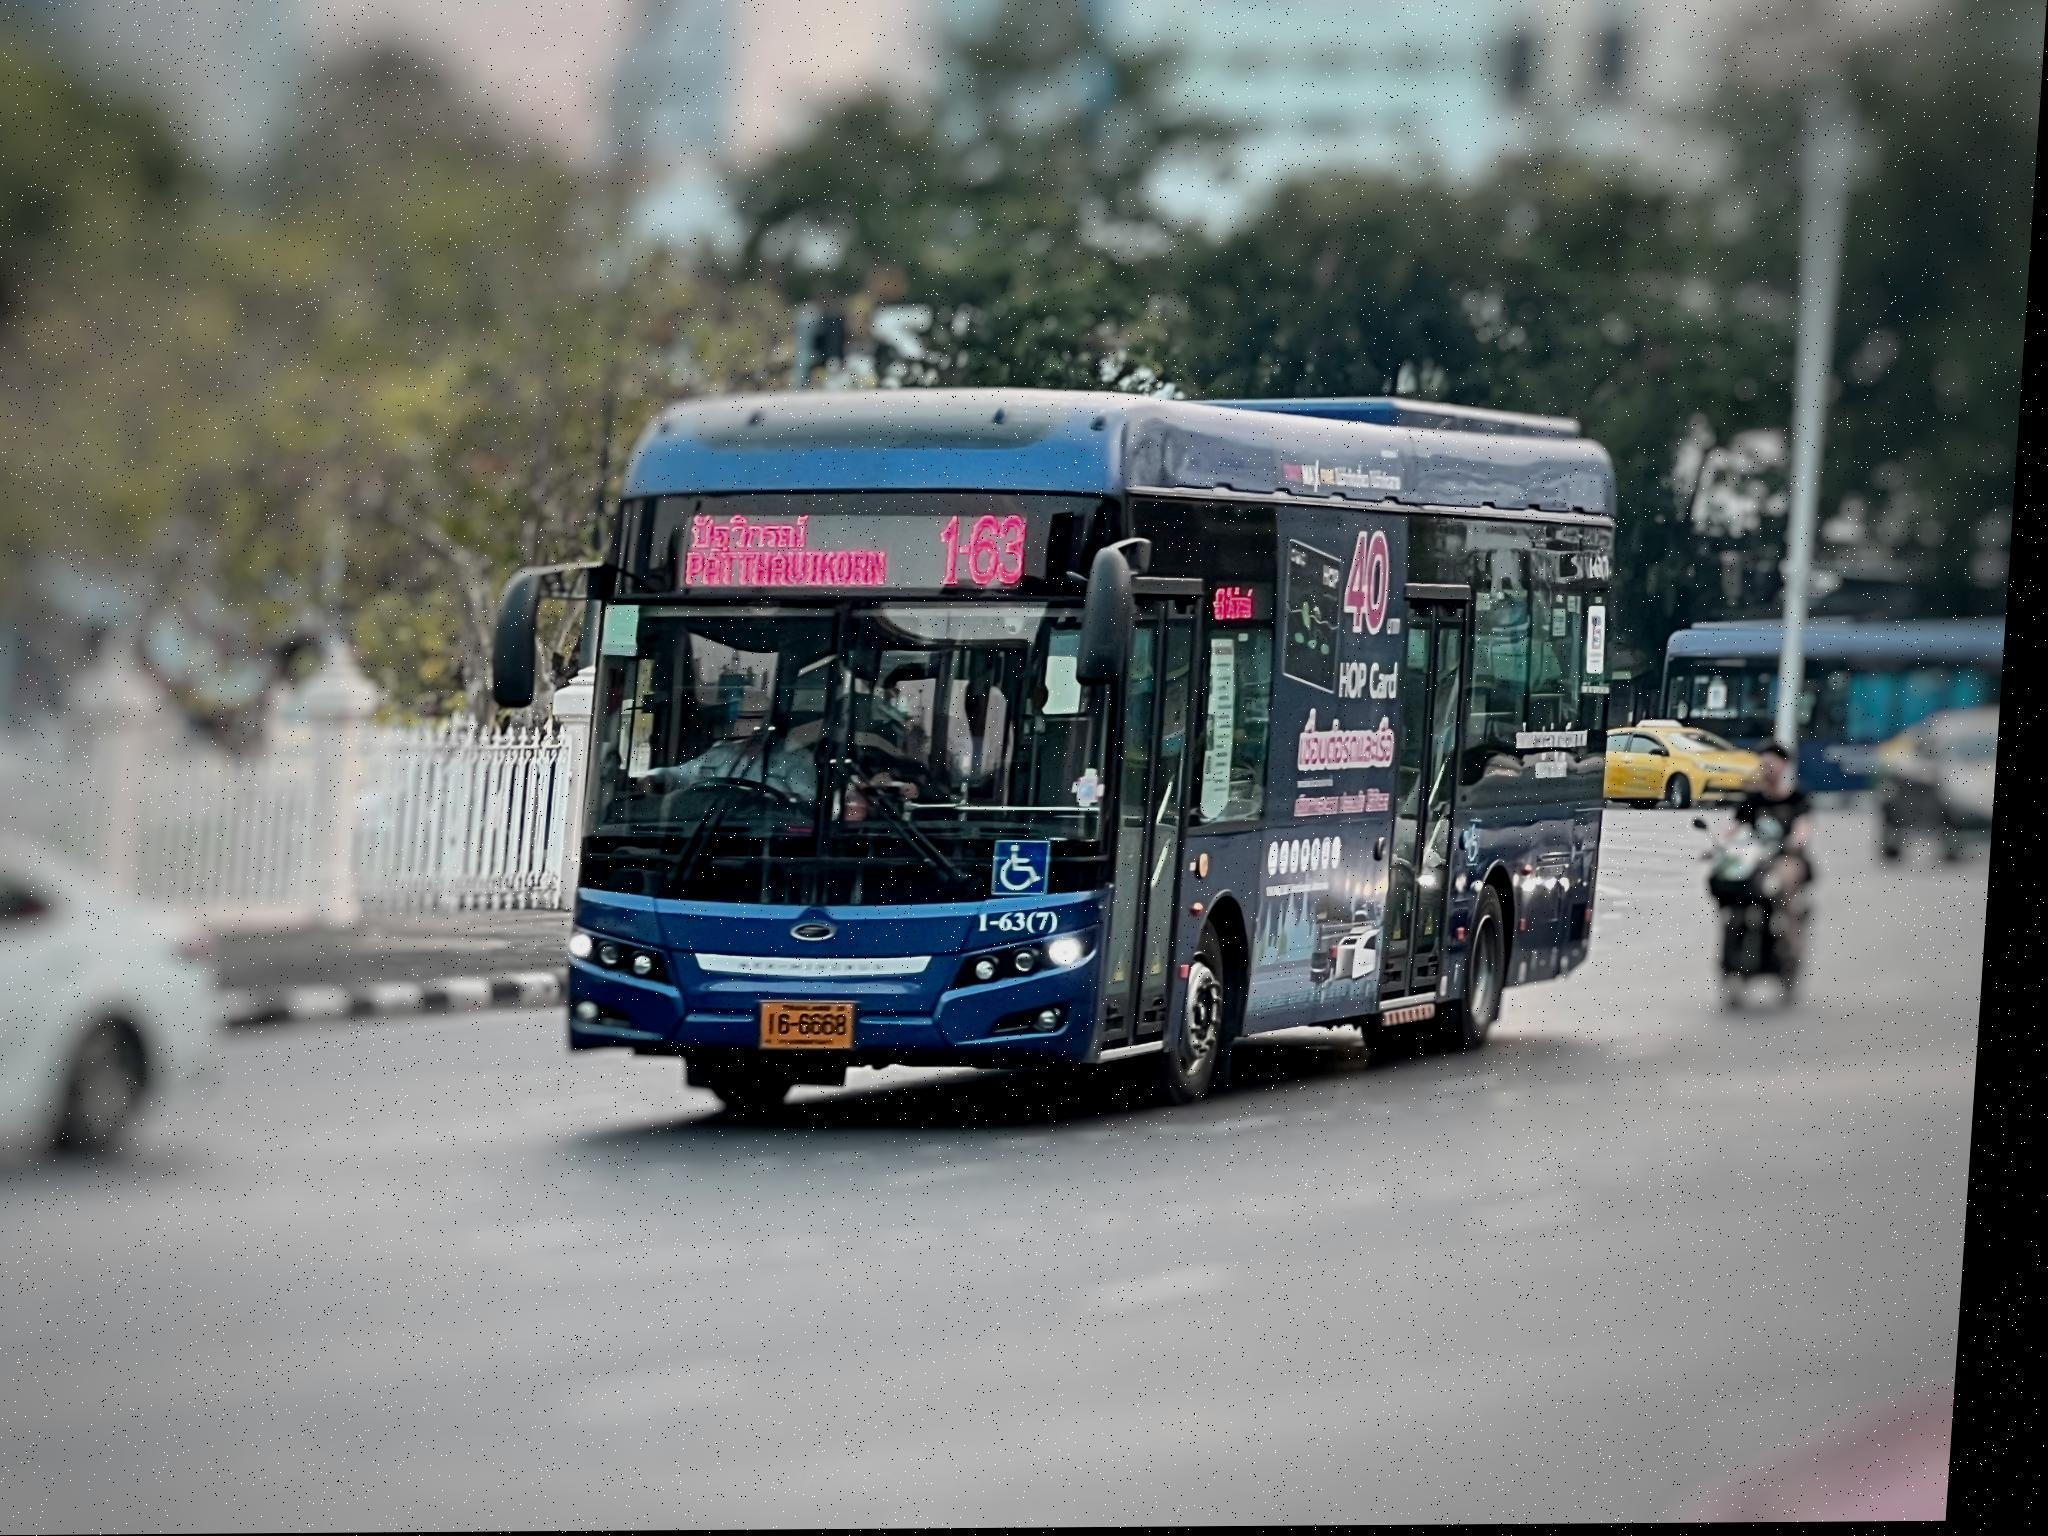Bus Line Number: (935, 502, 1047, 599)
Bus Side Number: (982, 904, 1079, 942)
Destination Sign: (676, 502, 911, 607)
TSB-Bus: (503, 390, 1629, 1117)
